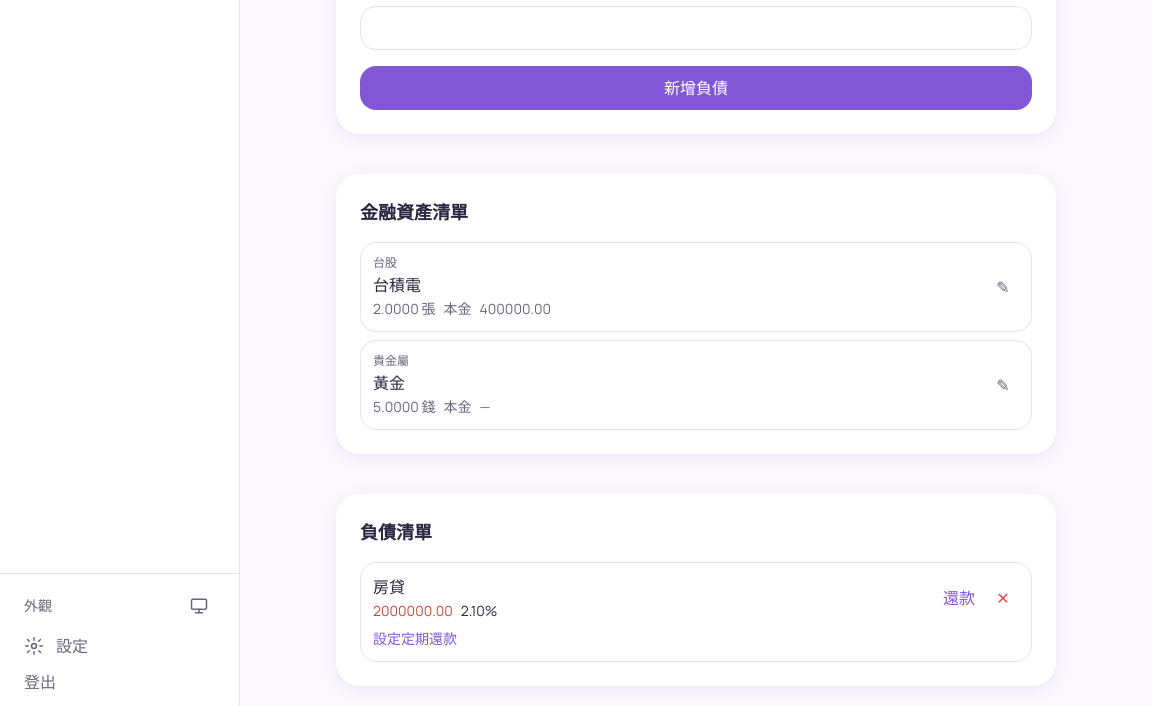
AssetsPage › 負債還款金額大於等於目前金額時，前端擋下不送出並顯示提示改用刪除
(page scrolled)
Click the button with aria-label "還款 房貸": click(959, 598) [935,582,983,614]
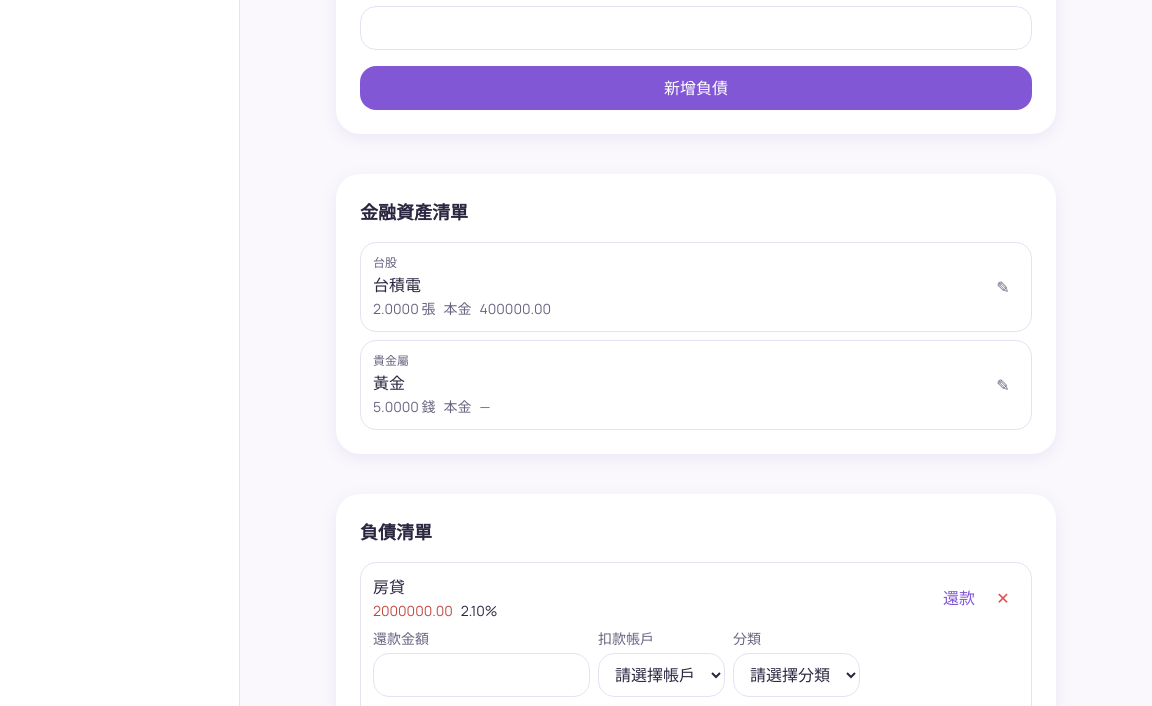
In the field named "房貸 還款金額": (482, 675) [373,653,590,697], type "2000000"
(page scrolled)
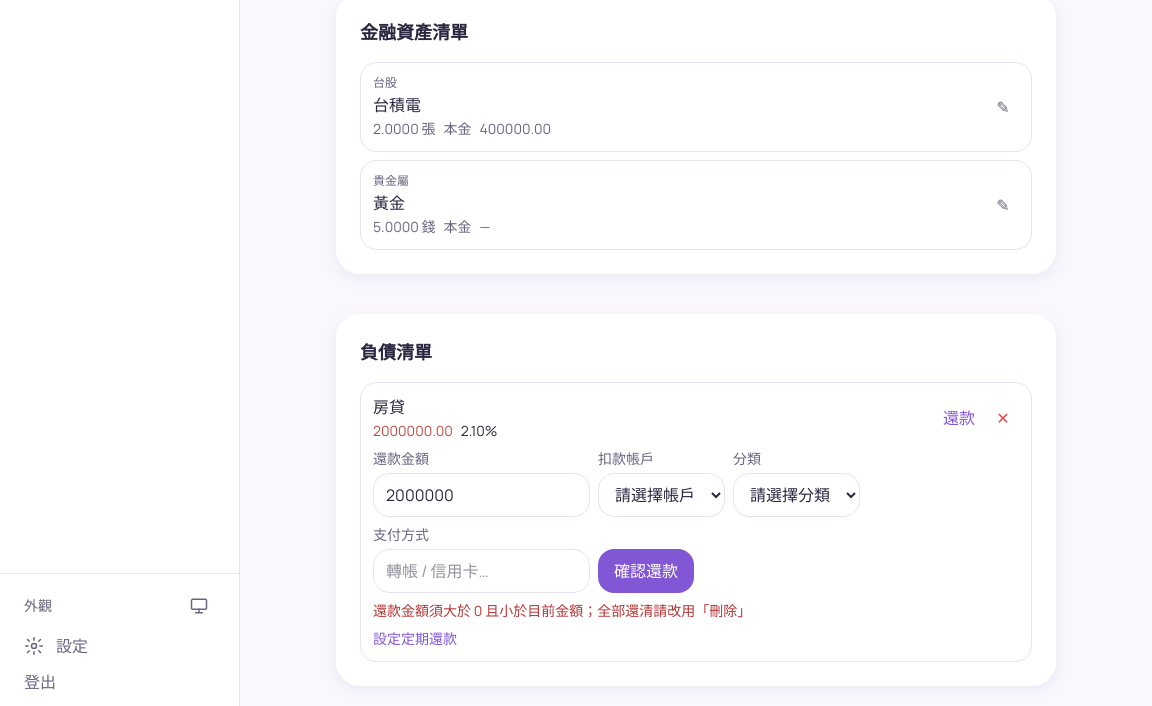
expect the button "確認還款" is disabled: met, box [598,549,694,593]
expect the text "還款金額須大於 0 且小於目前金額；全部還清請改用「刪除」" is shown: met, box [373,601,751,621]
